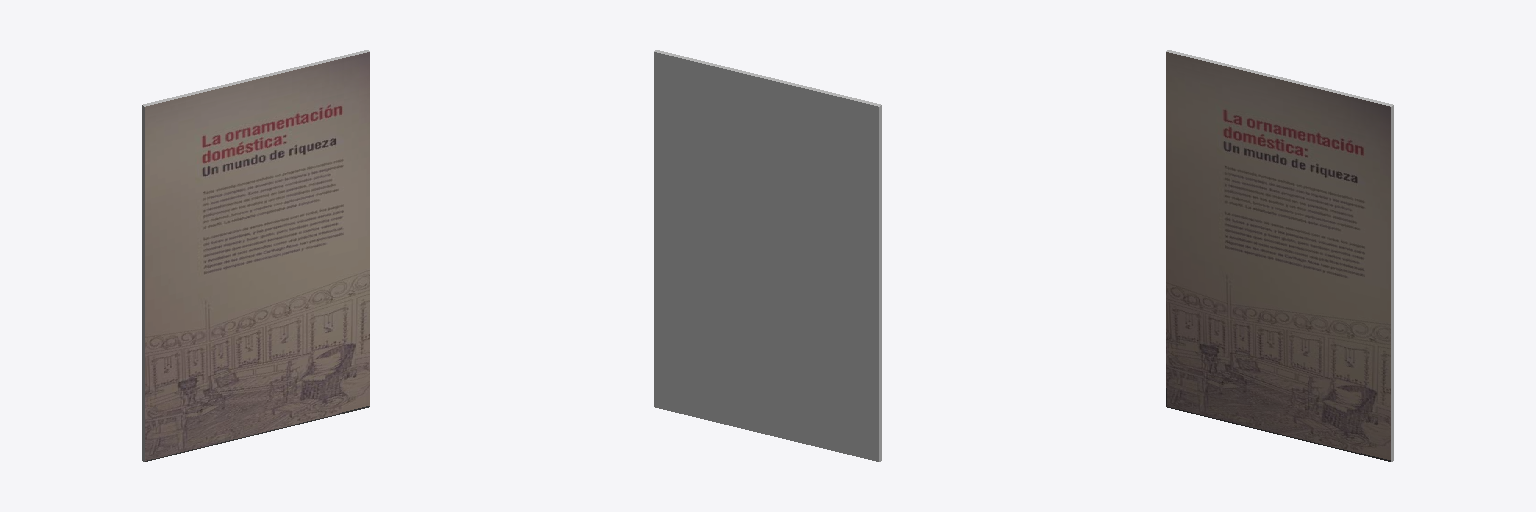
3 renders of one model, left to right at view 1: azimuth 30°, elevation 25°; view 2: azimuth 150°, elevation 25°; view 3: azimuth 330°, elevation 25°, orthographic.
Parts seen in each view (by area): view 1: SketchUp.001_ID10, SketchUp_ID2; view 2: SketchUp_ID2; view 3: SketchUp.001_ID10, SketchUp_ID2.
Part boxes in pixels (x1,y1,x2,y2): SketchUp.001_ID10: (145,52,369,461); SketchUp_ID2: (142,50,369,461); SketchUp_ID2: (654,50,881,461); SketchUp.001_ID10: (1166,52,1390,461); SketchUp_ID2: (1166,50,1393,461).
Size of the model in its own units: 188 by 283 by 3.94.
Materials: 2 (1 with a texture image).